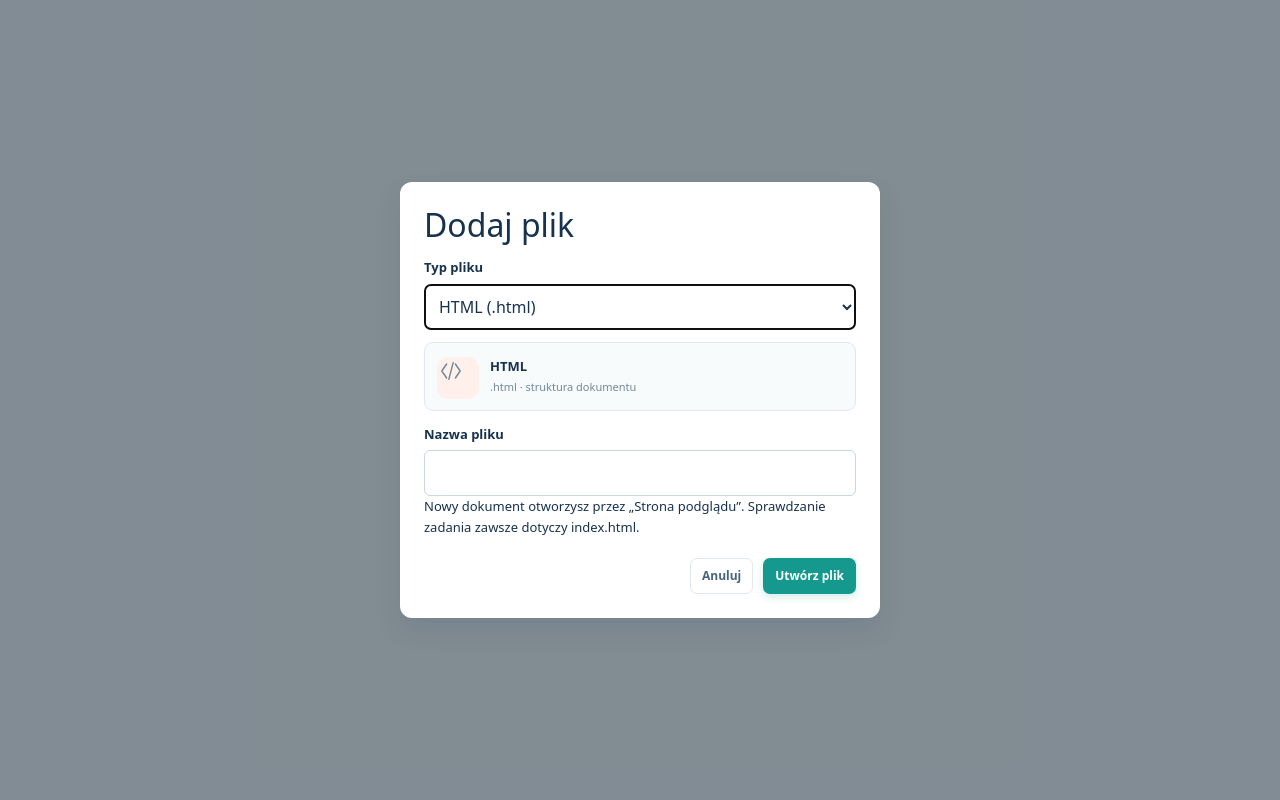
Test case: shows the selected language icon and updates it for each file type
The width and height of the screenshot is (1280, 800).
Expected: the picture named "HTML" is shown, 437,357 -> 479,399
Select "CSS (.css)" in the dropdown labelled "Typ pliku": x=640, y=307 424,284 -> 856,330
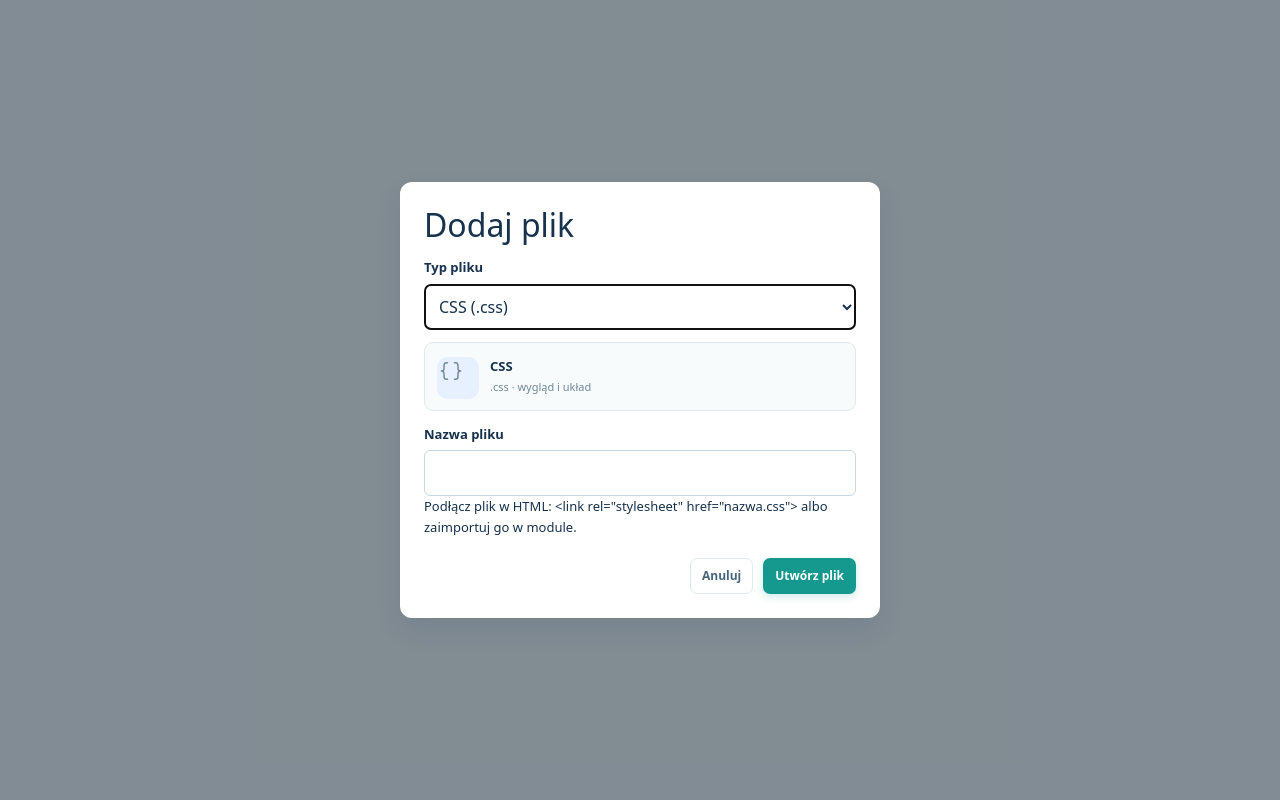
Now the picture named "CSS" is shown, box 437,357 -> 479,399
Select "JavaScript (.js)" in the dropdown labelled "Typ pliku": x=640, y=307 424,284 -> 856,330
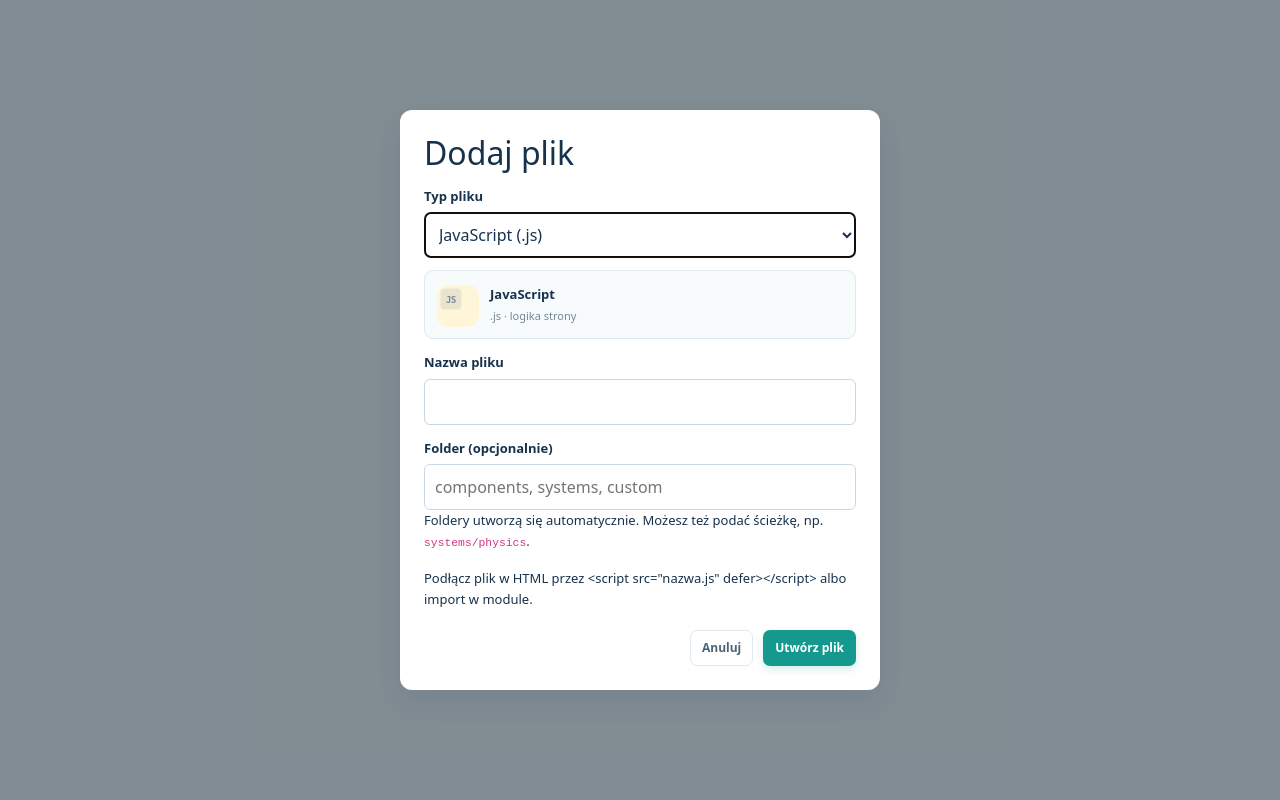
Now the picture named "JavaScript" is shown, box 437,285 -> 479,327
Select "React (.jsx)" in the dropdown labelled "Typ pliku": x=640, y=235 424,212 -> 856,258
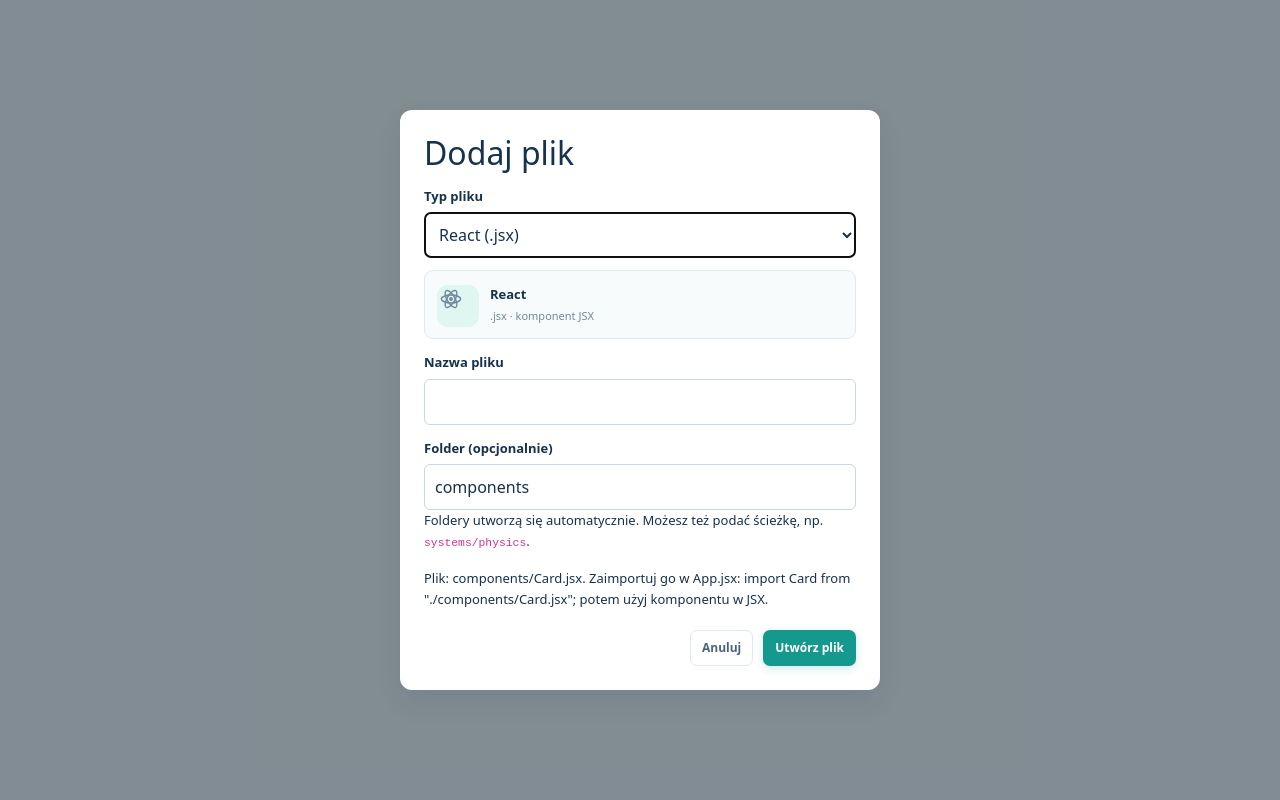
Now the picture named "React" is shown, box 437,285 -> 479,327
